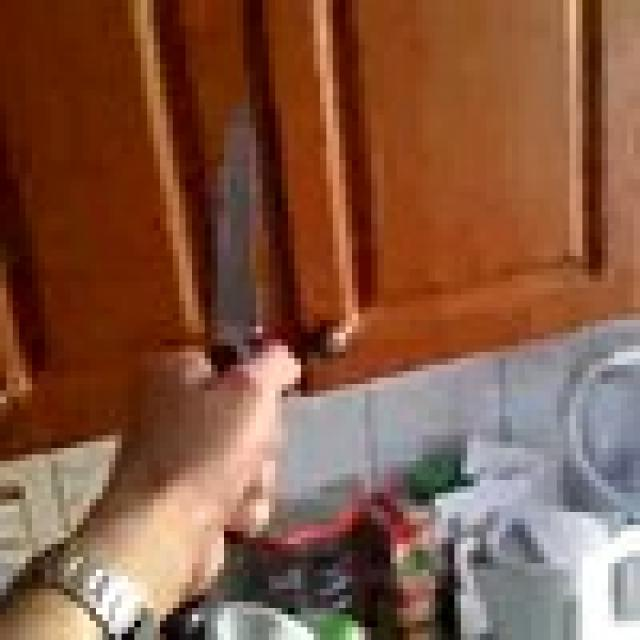Knife: (186, 102, 275, 378)
